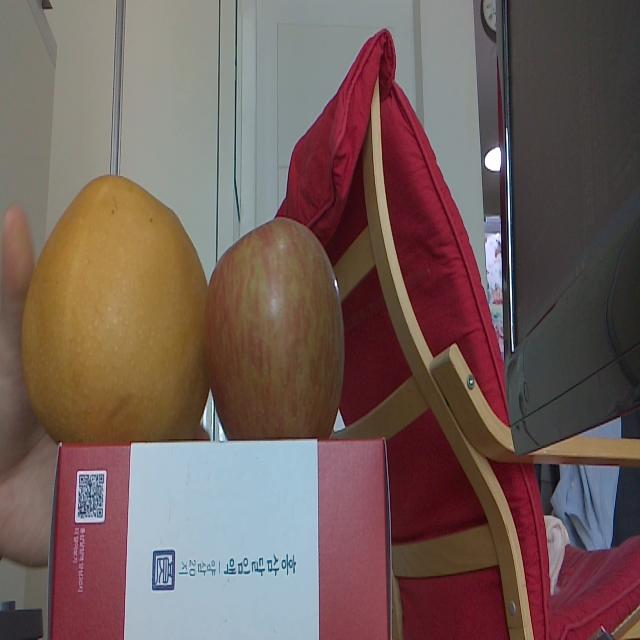apple: (206, 220, 344, 440)
pear: (21, 176, 206, 438)
